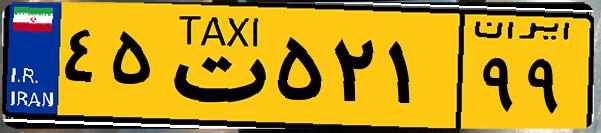1: (385, 28, 445, 110)
2: (330, 28, 385, 110)
4: (57, 26, 110, 100)
5: (270, 28, 330, 110), (110, 28, 158, 98)
9: (475, 38, 525, 113), (525, 38, 570, 115)
ت: (158, 12, 270, 120)
